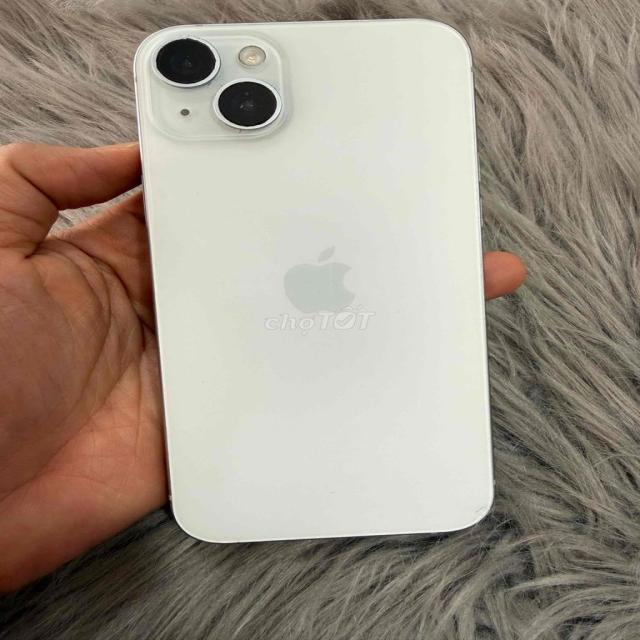gen_15: (125, 16, 500, 546)
scratch: (148, 31, 280, 137), (460, 493, 493, 524)
